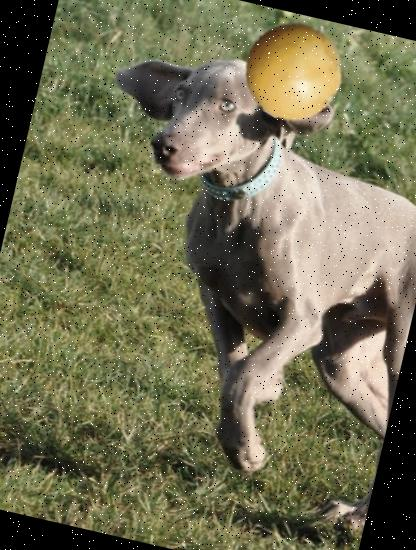Grapefruit: (232, 8, 356, 132)
